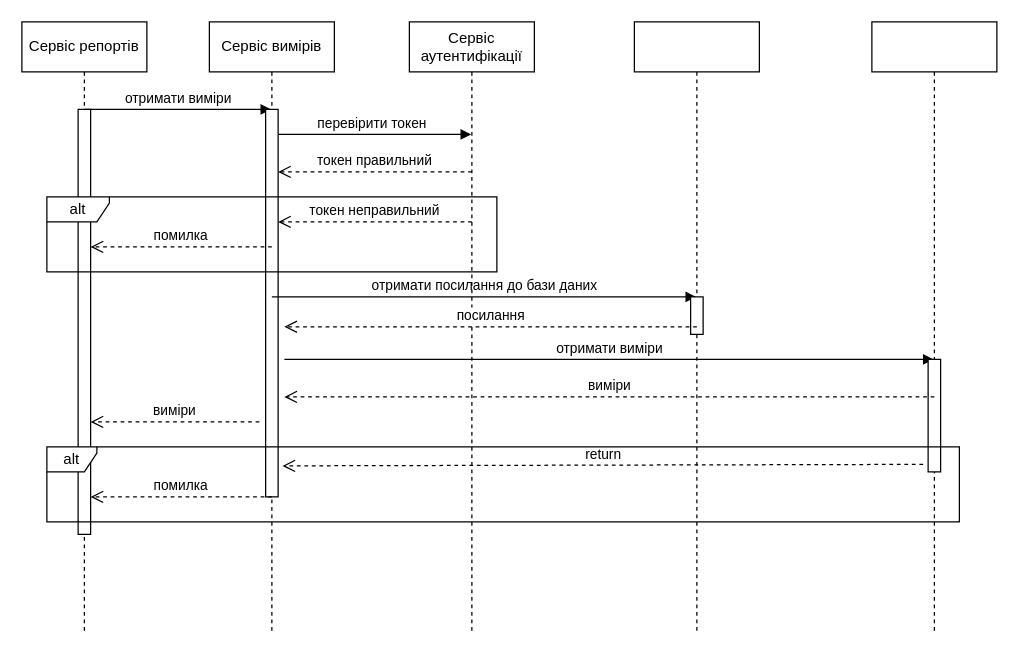
Image size: 1019x656. Some labels were removed from this diagram. The shapes that lost their labels are listed below. From the top down, each one's centre as x and y in pixels, then its label:
At [696,327]: "Database per tenant".
At [934,327]: "База даних".
